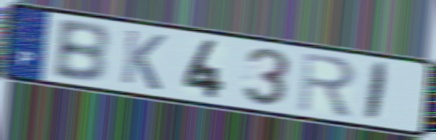3: (239, 46, 292, 108)
4: (180, 38, 227, 100)
B: (50, 19, 112, 85)
I: (361, 60, 392, 124)
K: (118, 26, 169, 93)
R: (296, 50, 359, 120)
